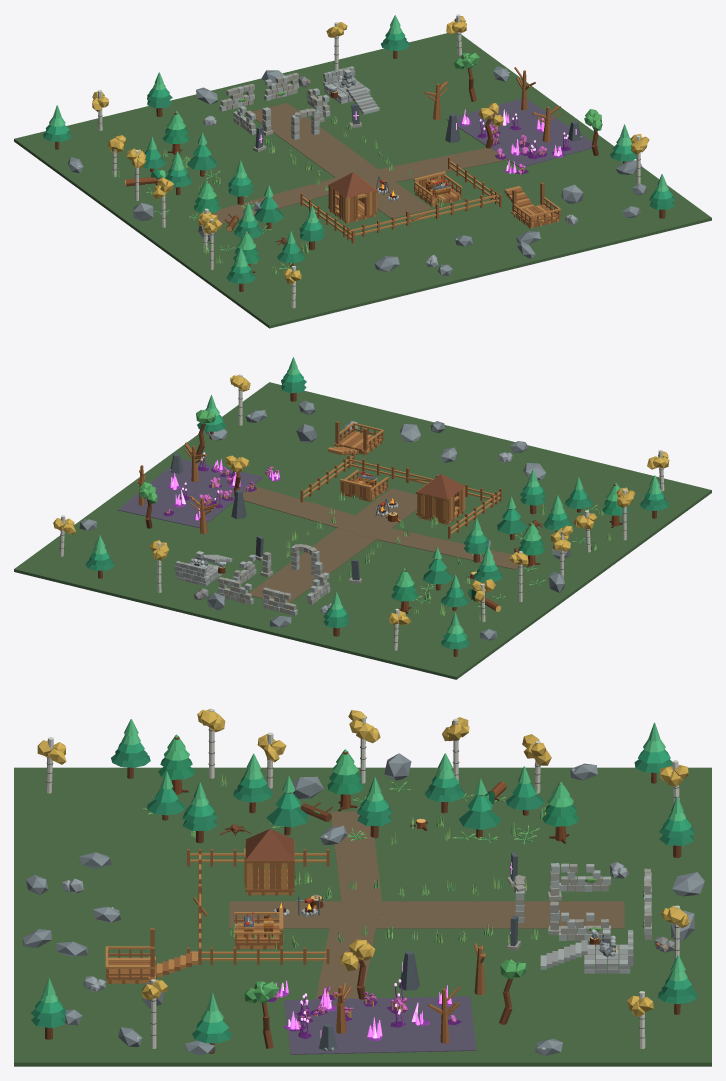
Rendered from playtest_map.glb.
3 views of the same model, one above another, from view 1: azimuth 30°, elevation 25°; view 2: azimuth 150°, elevation 25°; view 3: azimuth 270°, elevation 25° (orthographic). The views are drawn at different scales.
Visible parts, largest first — view 1: Map_Ground, Path_CampToRuins, Mire_Pool, Path_CampToMire, Path_CampToForest, Hip_Roof; view 2: Map_Ground, Path_CampToRuins, Mire_Pool, Path_CampToMire, Path_CampToForest, Hip_Roof; view 3: Map_Ground, Path_CampToRuins, Mire_Pool, Path_CampToForest, Path_CampToMire, Hip_Roof, Foliage_1.005, Foliage_1.007, Boulder.008, Monolith.
Boxes of the visible parts, left/top/right/bottom form: Map_Ground: left=14, top=32, right=711, bottom=328; Path_CampToRuins: left=252, top=103, right=431, bottom=218; Mire_Pool: left=446, top=98, right=598, bottom=167; Path_CampToMire: left=357, top=148, right=507, bottom=186; Path_CampToForest: left=211, top=172, right=370, bottom=223; Hip_Roof: left=329, top=172, right=376, bottom=197; Map_Ground: left=14, top=382, right=711, bottom=679; Path_CampToRuins: left=249, top=488, right=417, bottom=602; Mire_Pool: left=118, top=459, right=262, bottom=527; Path_CampToMire: left=243, top=485, right=378, bottom=533; Path_CampToForest: left=356, top=523, right=518, bottom=569; Hip_Roof: left=417, top=474, right=465, bottom=499; Map_Ground: left=14, top=767, right=711, bottom=1066; Path_CampToRuins: left=229, top=901, right=624, bottom=928; Mire_Pool: left=284, top=996, right=476, bottom=1054; Path_CampToForest: left=330, top=811, right=383, bottom=914; Path_CampToMire: left=316, top=911, right=378, bottom=999; Hip_Roof: left=245, top=829, right=294, bottom=860; Foliage_1.005: left=459, top=809, right=500, bottom=829; Foliage_1.007: left=266, top=807, right=308, bottom=827; Boulder.008: left=672, top=872, right=705, bottom=896; Monolith: left=399, top=951, right=419, bottom=990.
Size of the model in its own units: 60 by 6.99 by 60.
